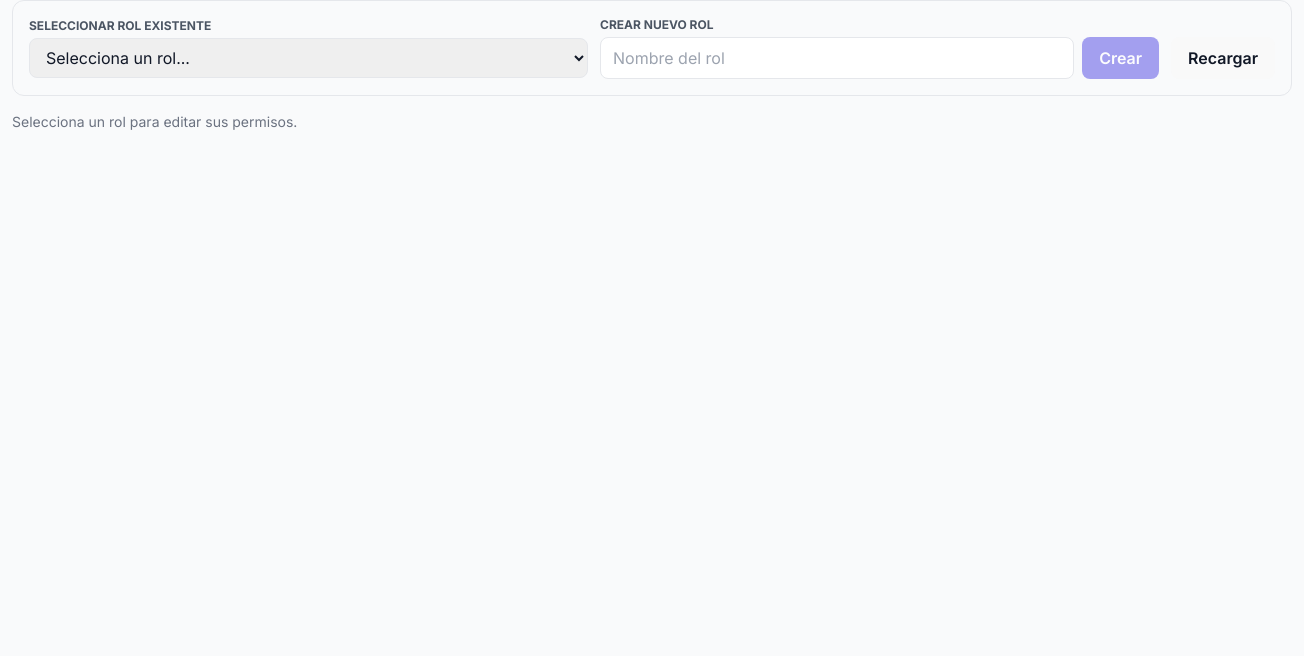
Test: RolesPermissionsSettings — role deletion › shows the exact users_count when the backend rejects deletion with 409 ROLE_IN_USE
Select "cajero_noche" in the dropdown labelled "Seleccionar Rol Existente" at x=308, y=58, box [29, 38, 588, 78]
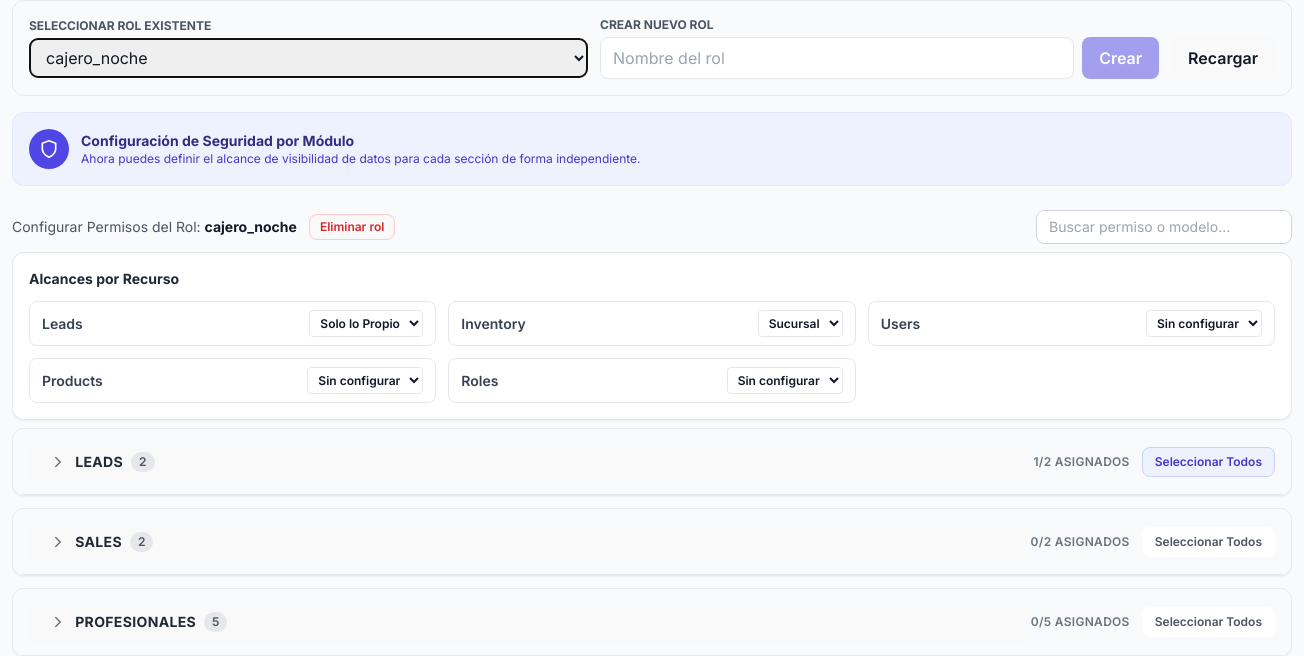
Click the button "Eliminar rol" at x=352, y=227, box [309, 214, 395, 240]
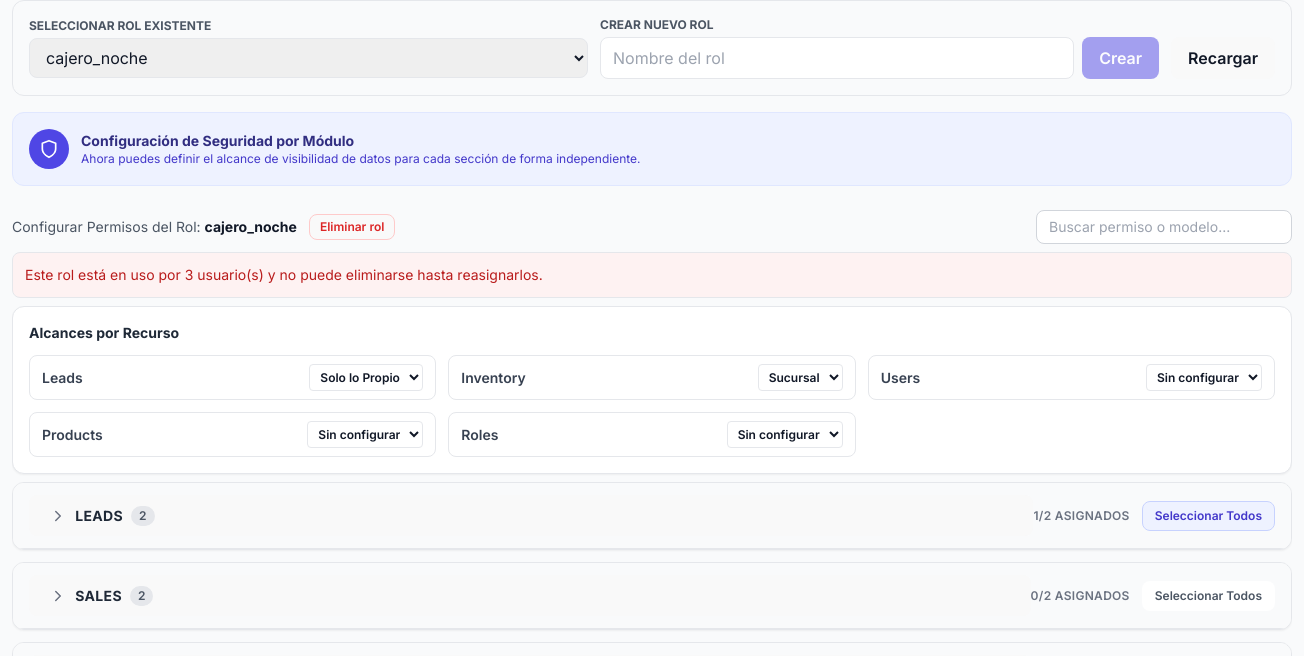
Expected: the text "en uso por 3 usuario(s)" is shown, [25, 266, 543, 283]
